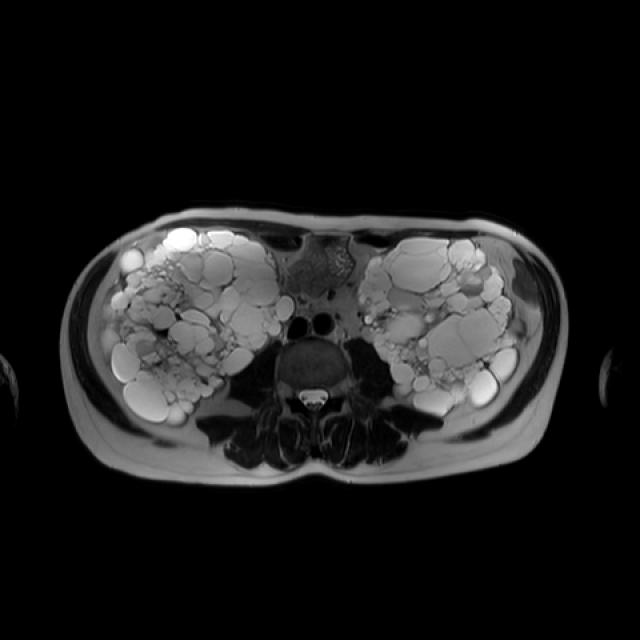sag: (95, 227, 296, 427)
sol: (354, 236, 527, 417)
